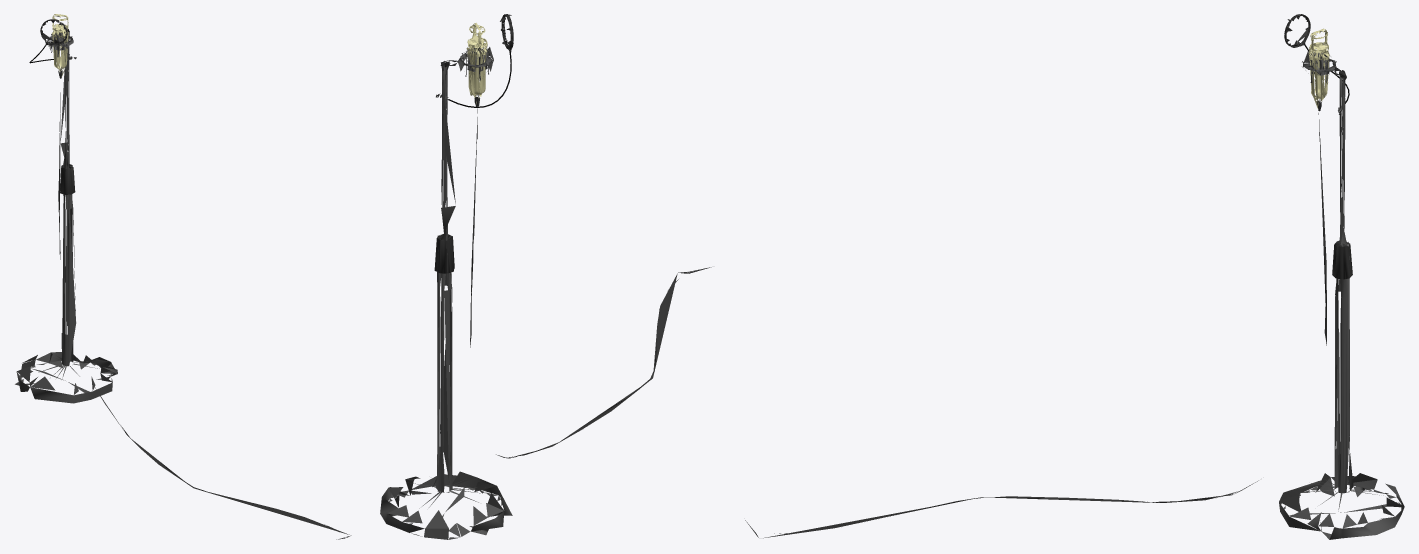
The model's file is mikrofon.glb.
3 renders of one model, left to right at view 1: azimuth 30°, elevation 25°; view 2: azimuth 150°, elevation 25°; view 3: azimuth 270°, elevation 25°, orthographic. The views are drawn at different scales.
Parts seen in each view (by area): view 1: bot_spider_rubber; view 2: bot_spider_rubber; view 3: bot_spider_rubber.
Boxes of the visible parts, box(x1,y1,x2,y2) form: bot_spider_rubber: box(15, 14, 351, 539); bot_spider_rubber: box(380, 14, 711, 539); bot_spider_rubber: box(745, 14, 1404, 539).
Size of the model in its own units: 0.4369 by 1.64 by 2.06.
